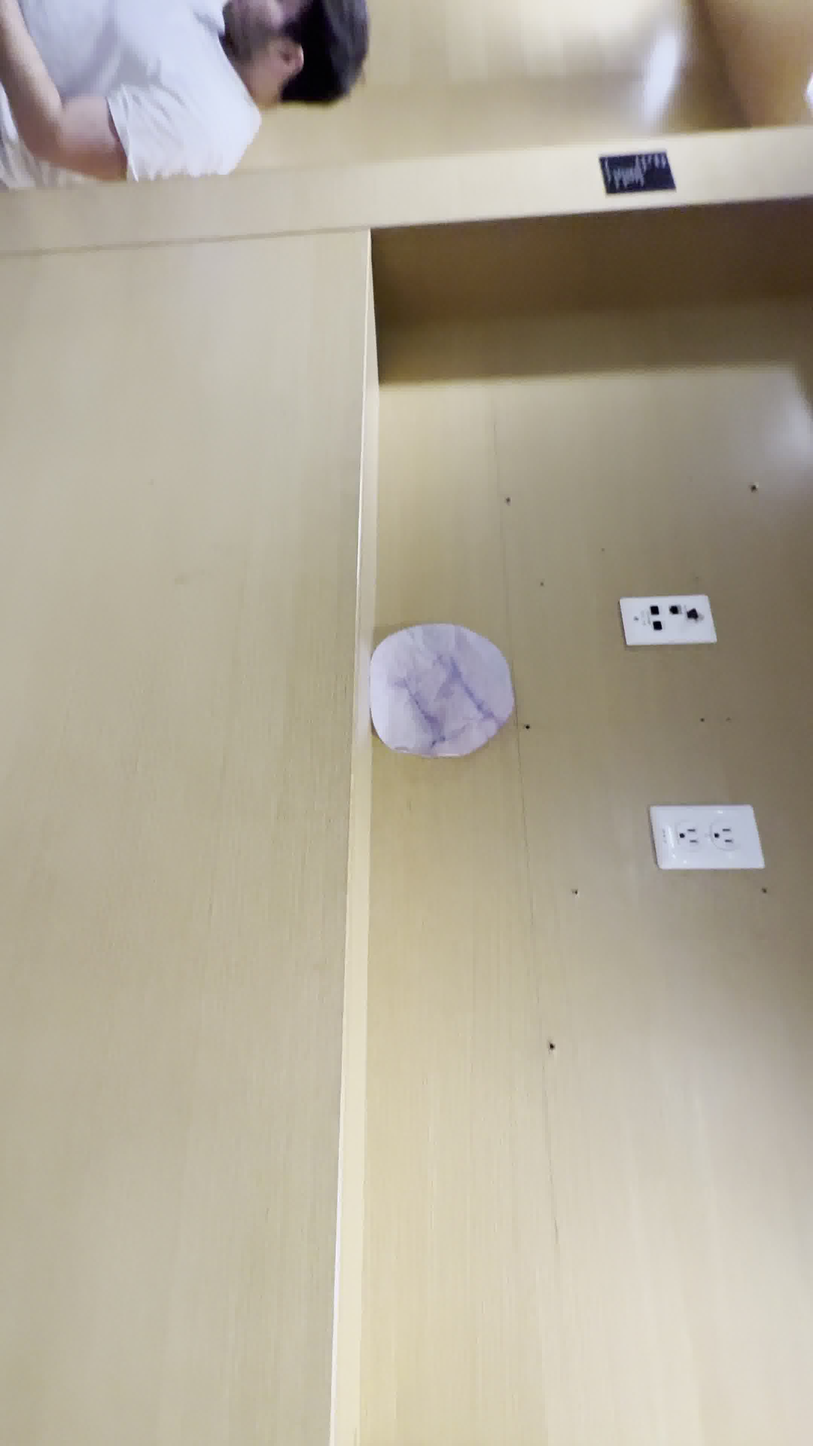Target: (371, 626, 513, 761)
